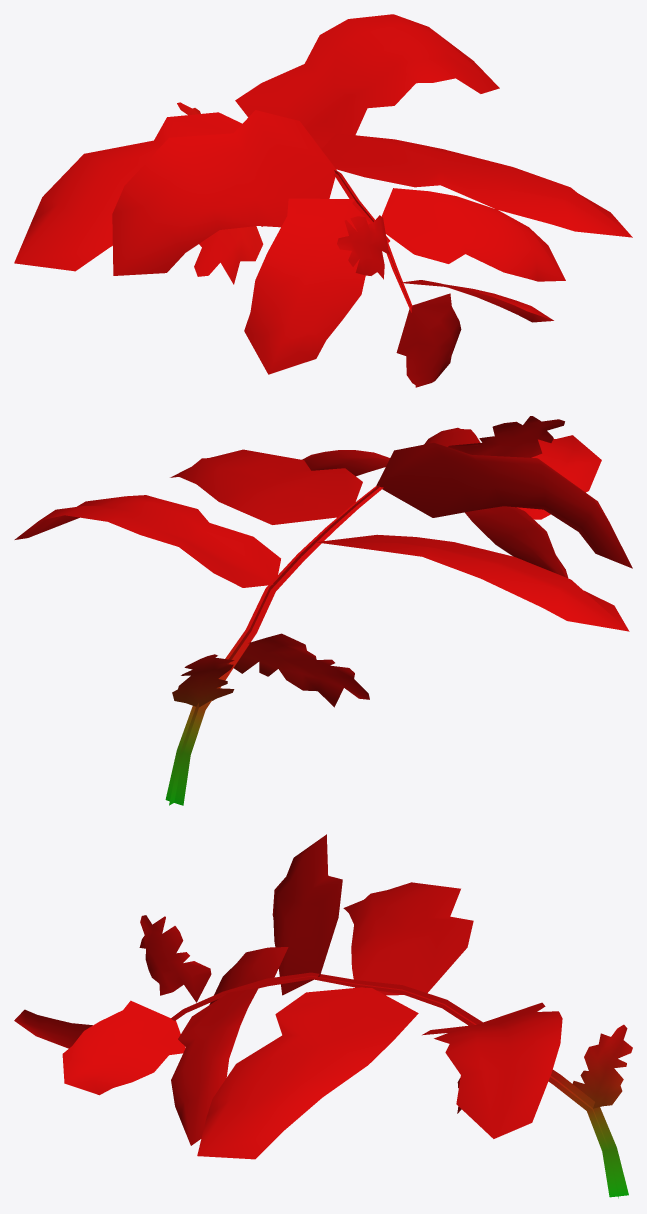
File: Black Locust_LOD2_Var1.fbx
3 renders of one model, top to bottom at view 1: azimuth 30°, elevation 25°; view 2: azimuth 150°, elevation 25°; view 3: azimuth 270°, elevation 25°, orthographic. The views are drawn at different scales.
Parts seen in each view (by area): view 1: _m9ay_Var1_LOD2; view 2: _m9ay_Var1_LOD2; view 3: _m9ay_Var1_LOD2.
Part boxes in pixels (x1,y1,x2,y2): _m9ay_Var1_LOD2: [14, 14, 632, 387]; _m9ay_Var1_LOD2: [14, 416, 632, 805]; _m9ay_Var1_LOD2: [14, 834, 632, 1198].
Size of the model in its own units: 48.25 by 23.95 by 50.3.
